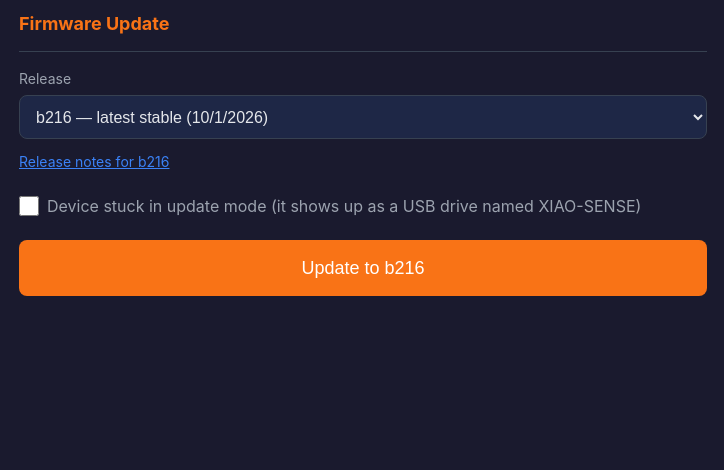
FirmwarePage › Cancel during the download stops before any device interaction
The width and height of the screenshot is (724, 470).
Click the button "Update to b216": [363, 268] box [19, 240, 707, 296]
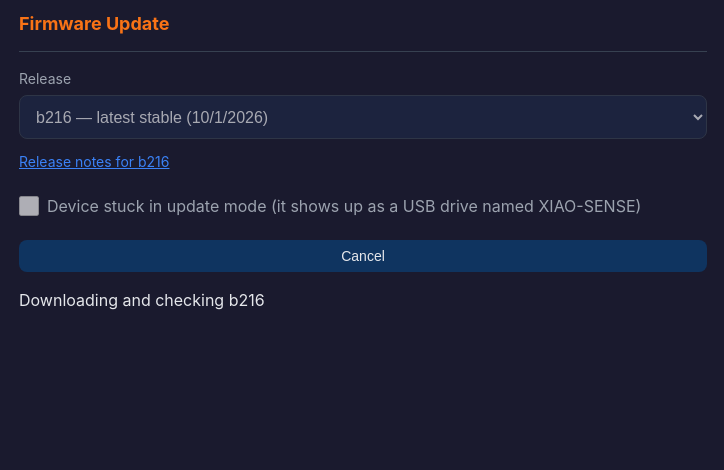
Click the button "Cancel": [363, 256] box [19, 240, 707, 272]
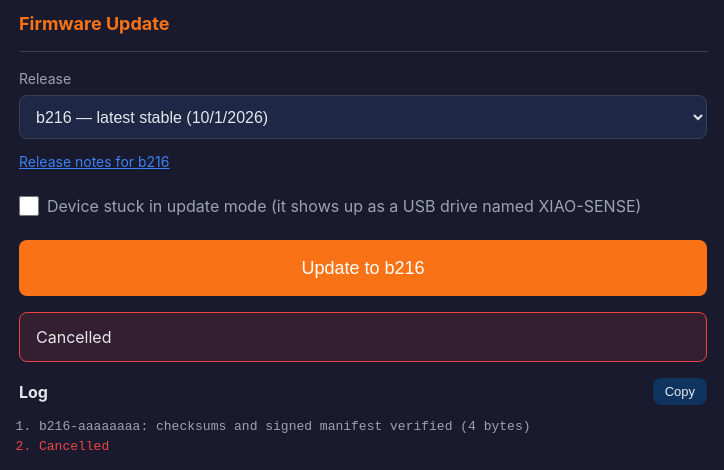
Expected: the text "Cancelled" is shown, [19, 312, 707, 362]
